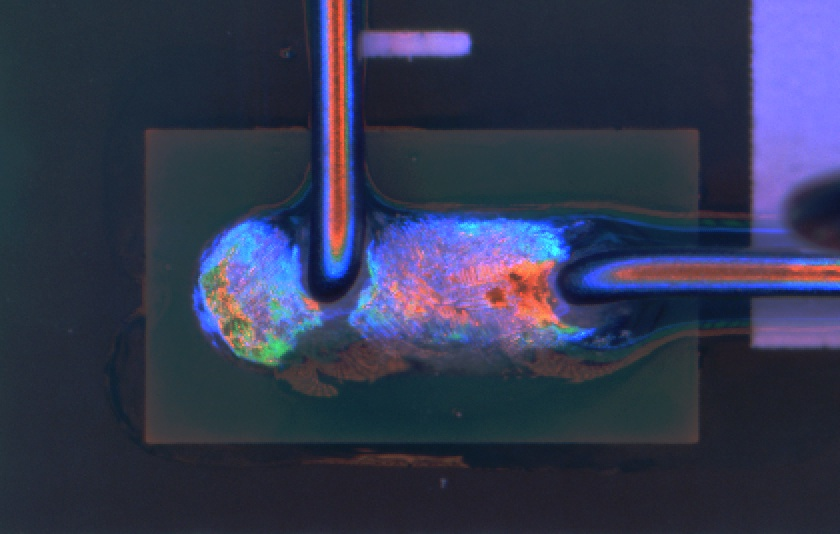spring: (297, 1, 374, 321), (558, 234, 840, 313)
spring_pin: (194, 213, 659, 362)
